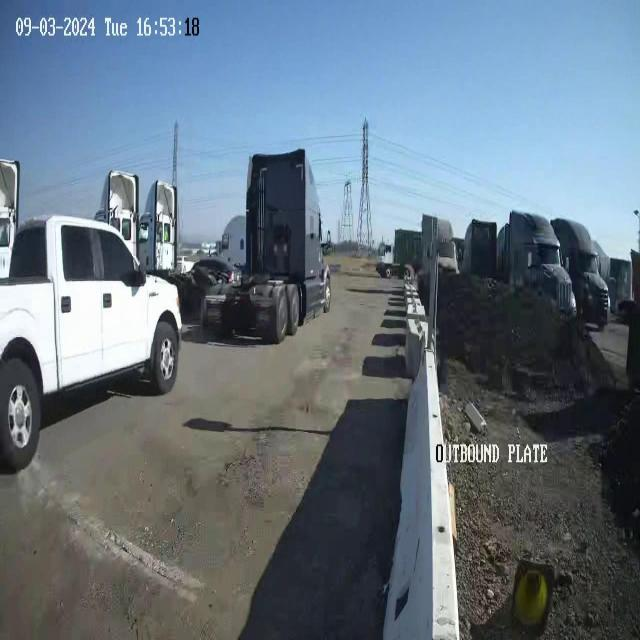TRUCK_IN: (226, 142, 335, 341)
